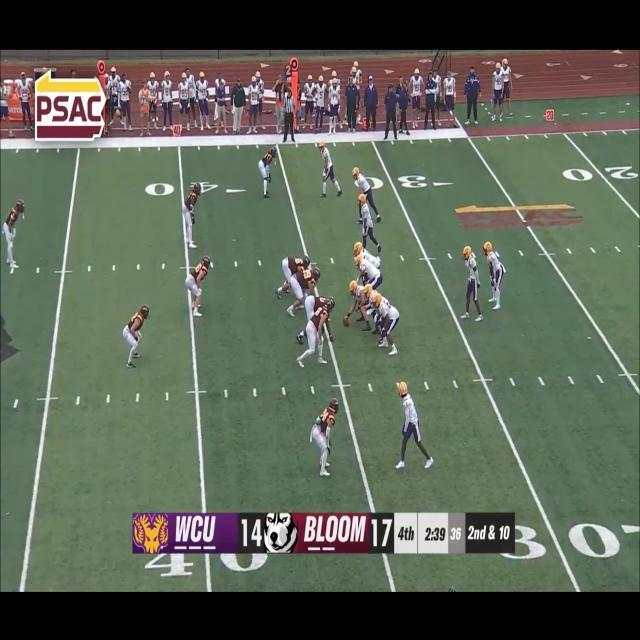football: (340, 314, 353, 330)
